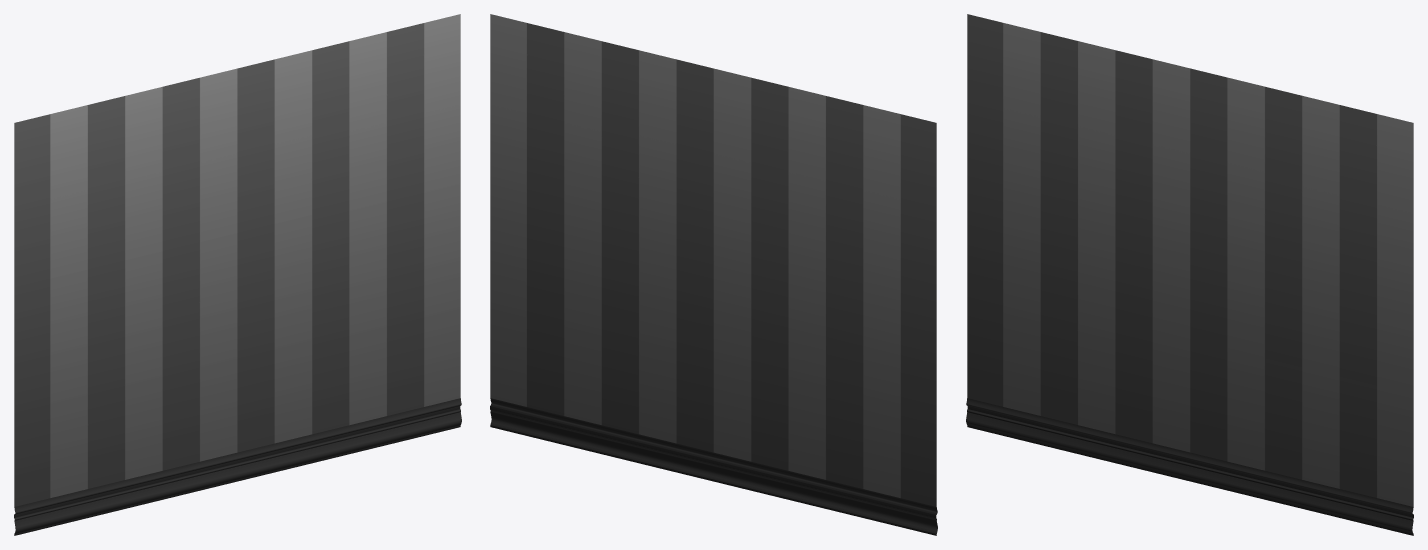
The model's file is Wall_03.fbx.
3 views of the same model, side by side, from view 1: azimuth 30°, elevation 25°; view 2: azimuth 150°, elevation 25°; view 3: azimuth 330°, elevation 25° (orthographic).
Parts seen in each view (by area): view 1: Wall_03; view 2: Wall_03; view 3: Wall_03.
Boxes of the visible parts, <box> form: Wall_03: <box>14,14,461,535</box>; Wall_03: <box>490,14,937,535</box>; Wall_03: <box>966,14,1413,535</box>.
Size of the model in its own units: 3 by 2.65 by 0.0178.
